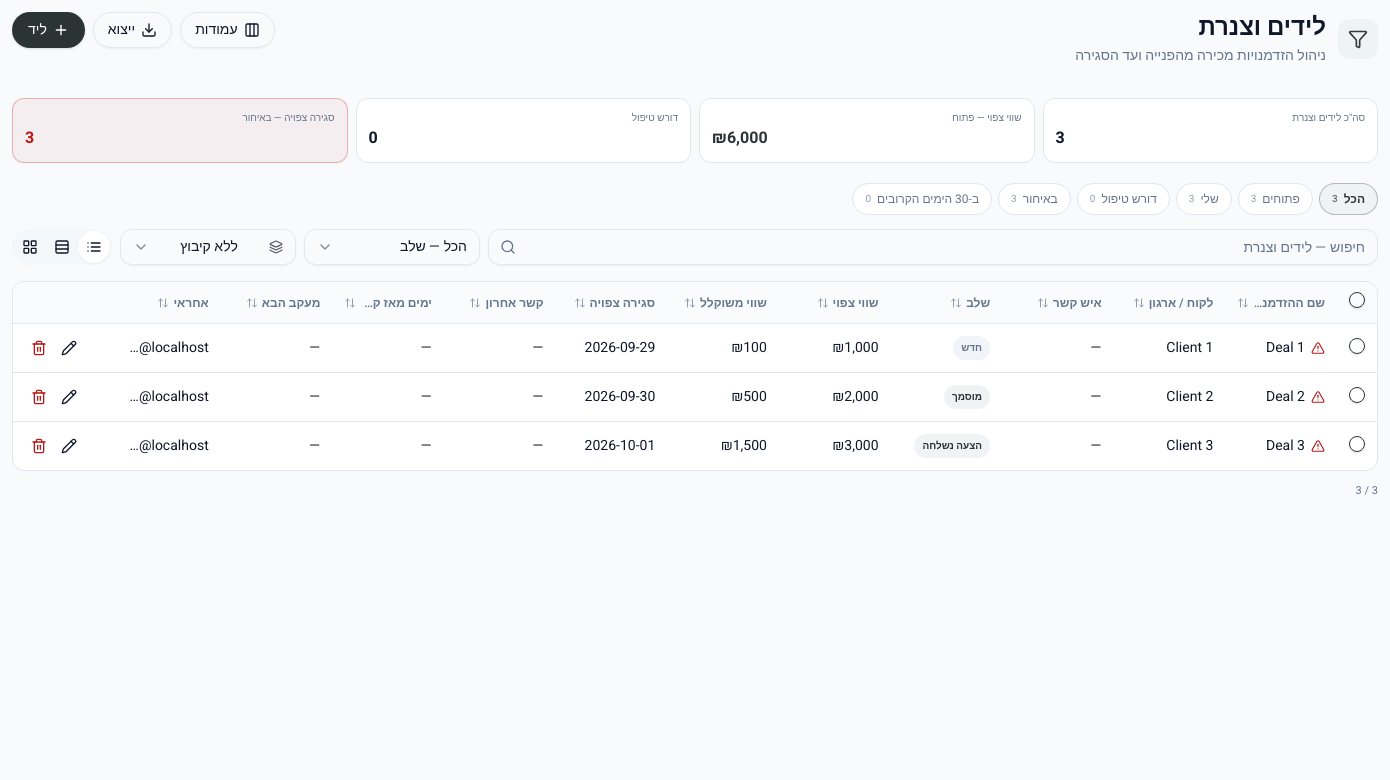
Test: empty states that offer the next step › clears the filter for you when a search matched nothing
Check: the text "Deal 1" is shown, box [1266,338,1305,358]
Type "zzzzzz" into the field with placeholder "חיפוש — לידים וצנרת" at point(933, 247), box [488,229,1378,265]
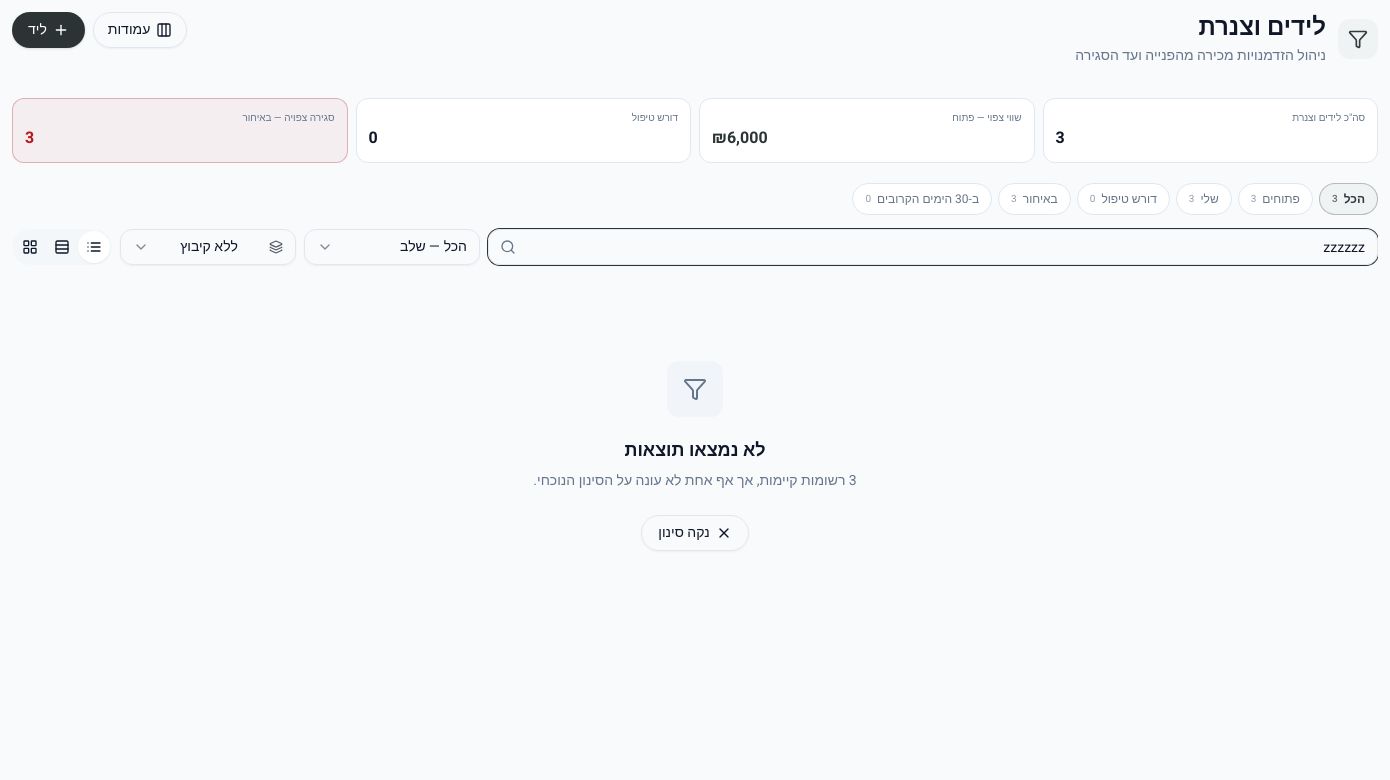
Click the button "נקה סינון" at point(695, 533), box [641,515,749,551]
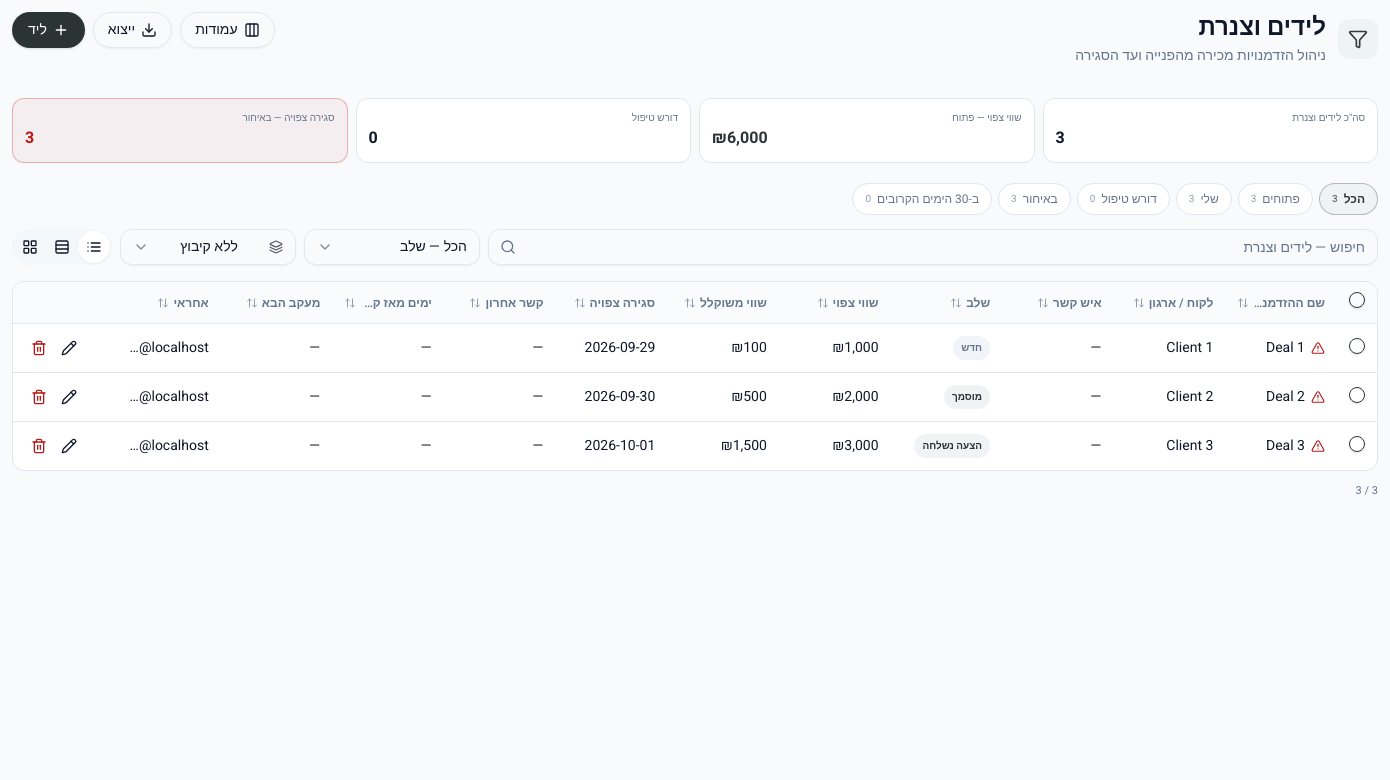
Check: the text "Deal 1" is shown, box [1266,338,1305,358]
